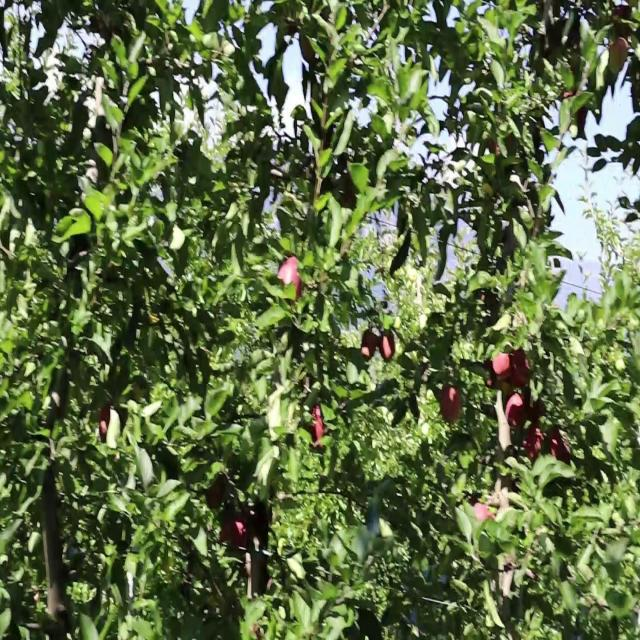apple: (280, 255, 304, 300), (440, 383, 464, 425), (220, 519, 248, 549), (608, 35, 630, 73), (512, 355, 532, 391), (524, 426, 544, 462), (308, 405, 325, 446), (548, 426, 567, 462), (508, 398, 527, 430), (488, 135, 513, 158), (360, 334, 379, 363), (556, 433, 571, 466), (208, 483, 225, 512), (380, 334, 396, 363), (528, 398, 544, 427), (472, 504, 495, 524), (100, 405, 112, 441), (496, 355, 512, 379), (484, 362, 495, 389)
